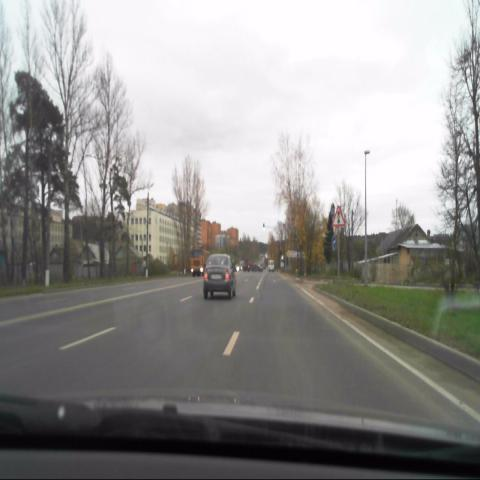1_8: (332, 204, 346, 228)
